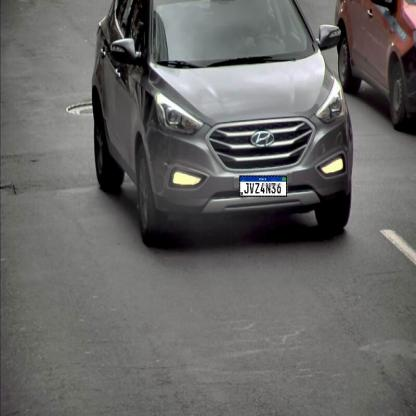PlacaM: (239, 175, 287, 197)
